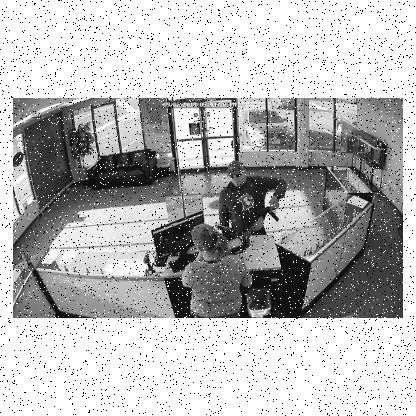gun: (264, 201, 280, 223)
